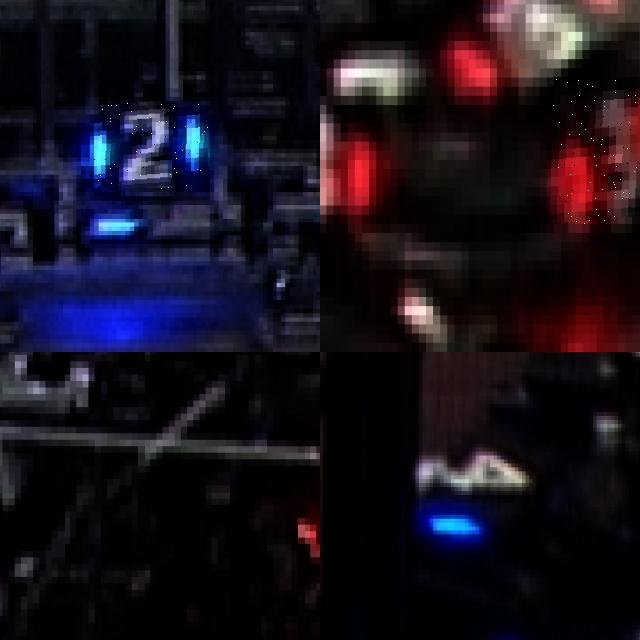B2: (94, 101, 210, 192)
B4: (417, 410, 535, 537)
R3: (547, 77, 640, 223), (320, 87, 376, 224)
